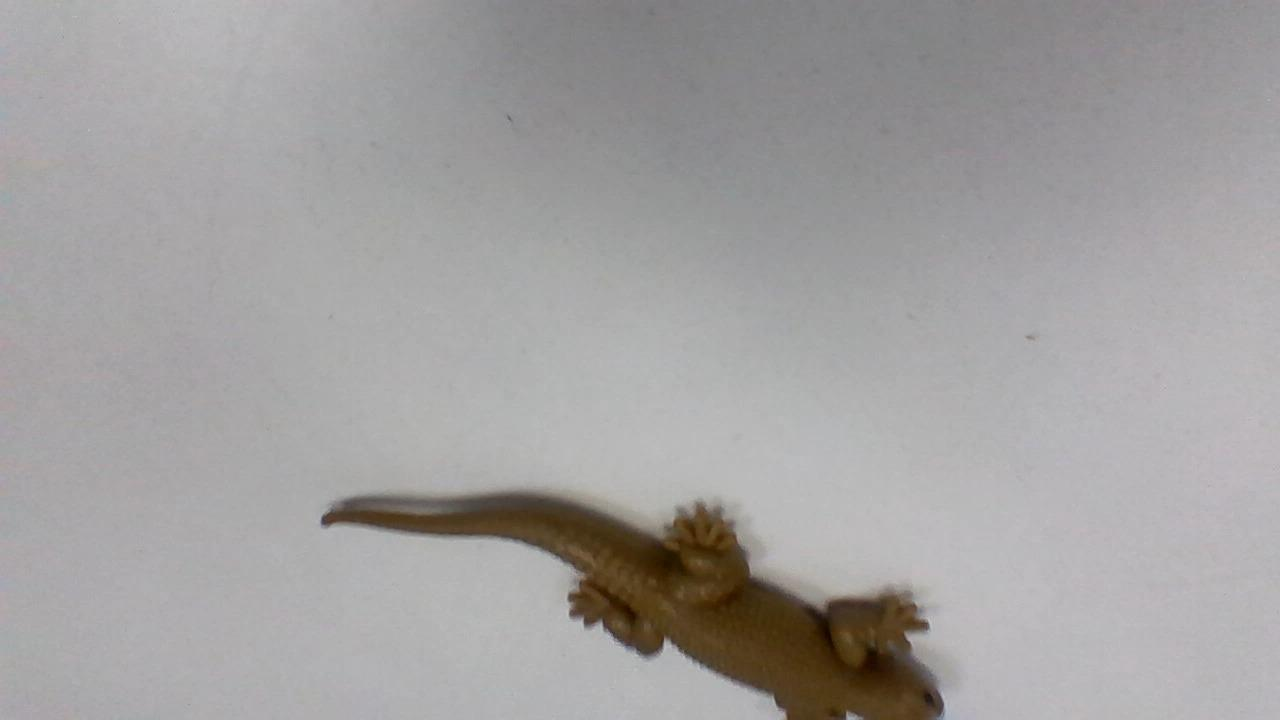lizard: (312, 487, 946, 720)
